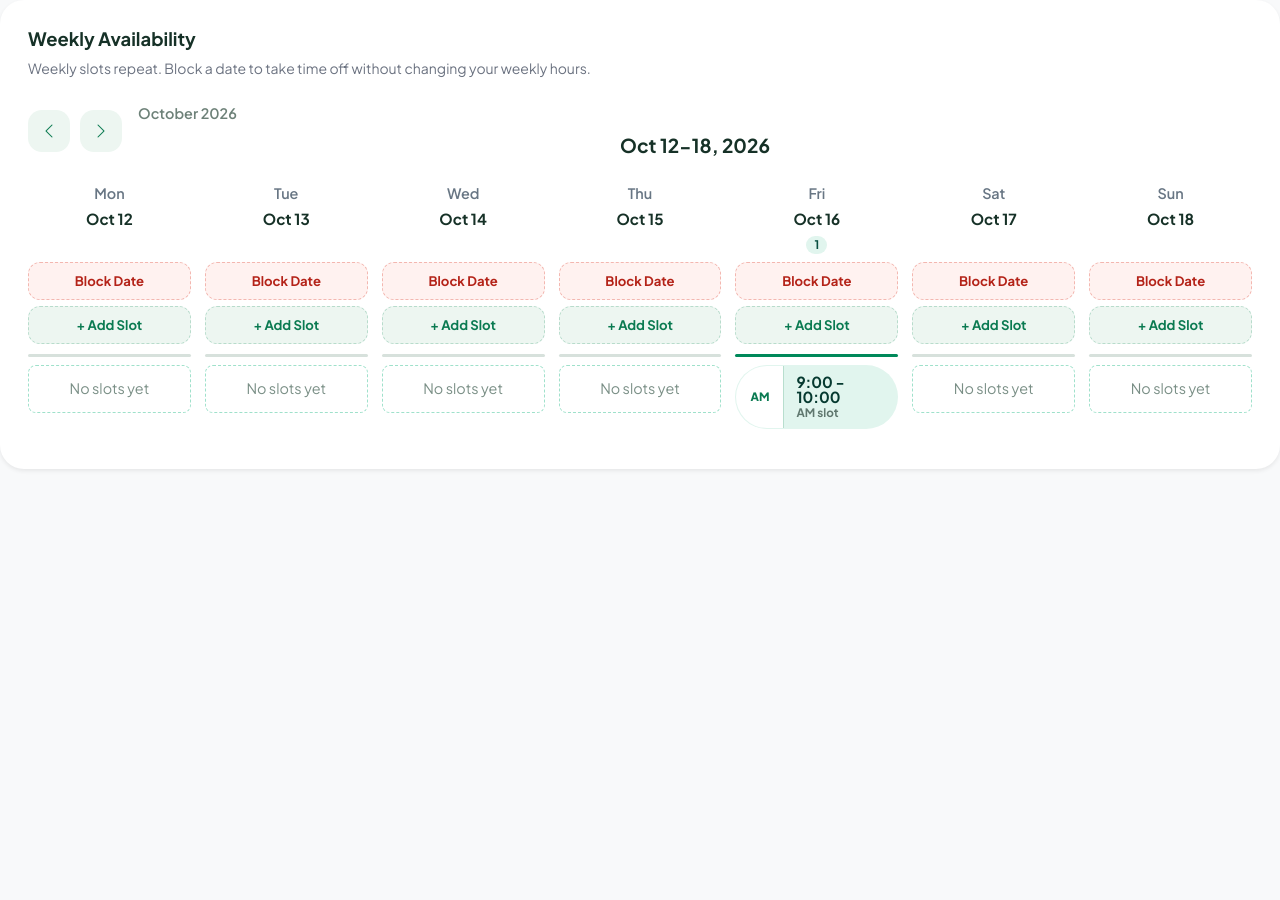
Recurring availability deletion › does not delete on selection or cancel, explains recurrence, and restores focus
Click the button with class "slot-pill": (817,397) [735,365,898,429]
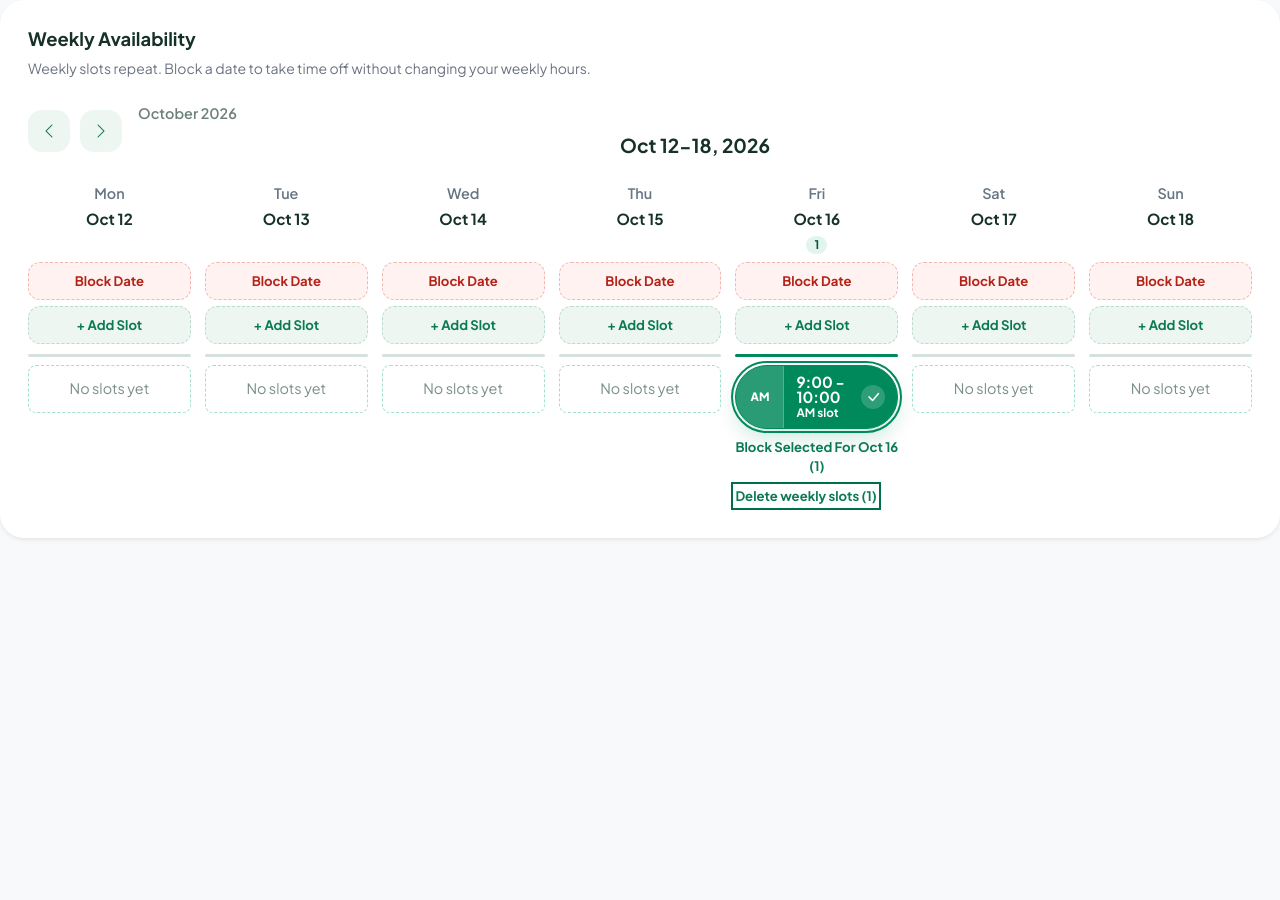
Click the button "Delete weekly slots (1)": (806,496) [735,486,877,506]
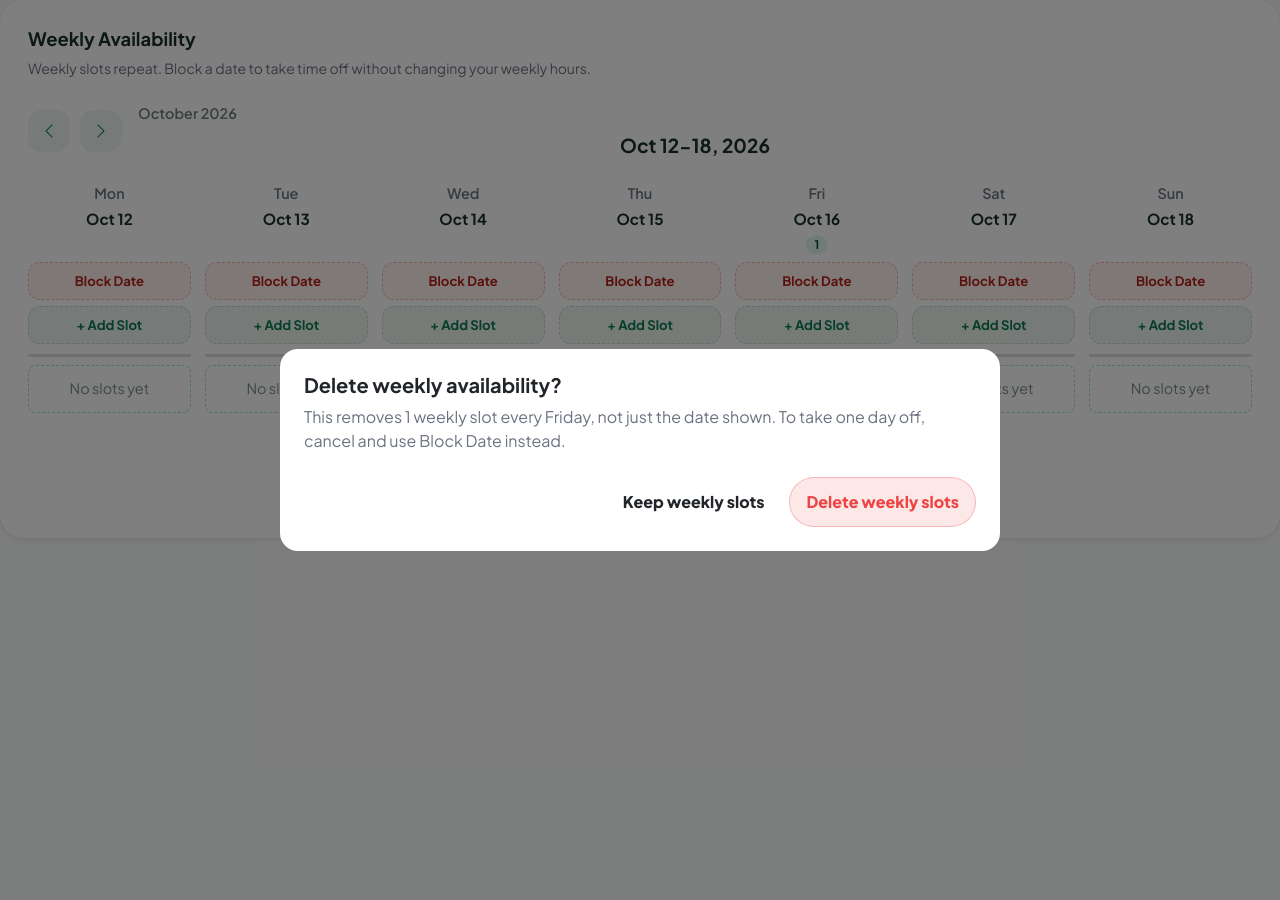
Check: the text with id "delete-weekly-description" shows "every Friday", box [304,406,925,452]
Click the button "Keep weekly slots": (694,502) [606,478,781,526]
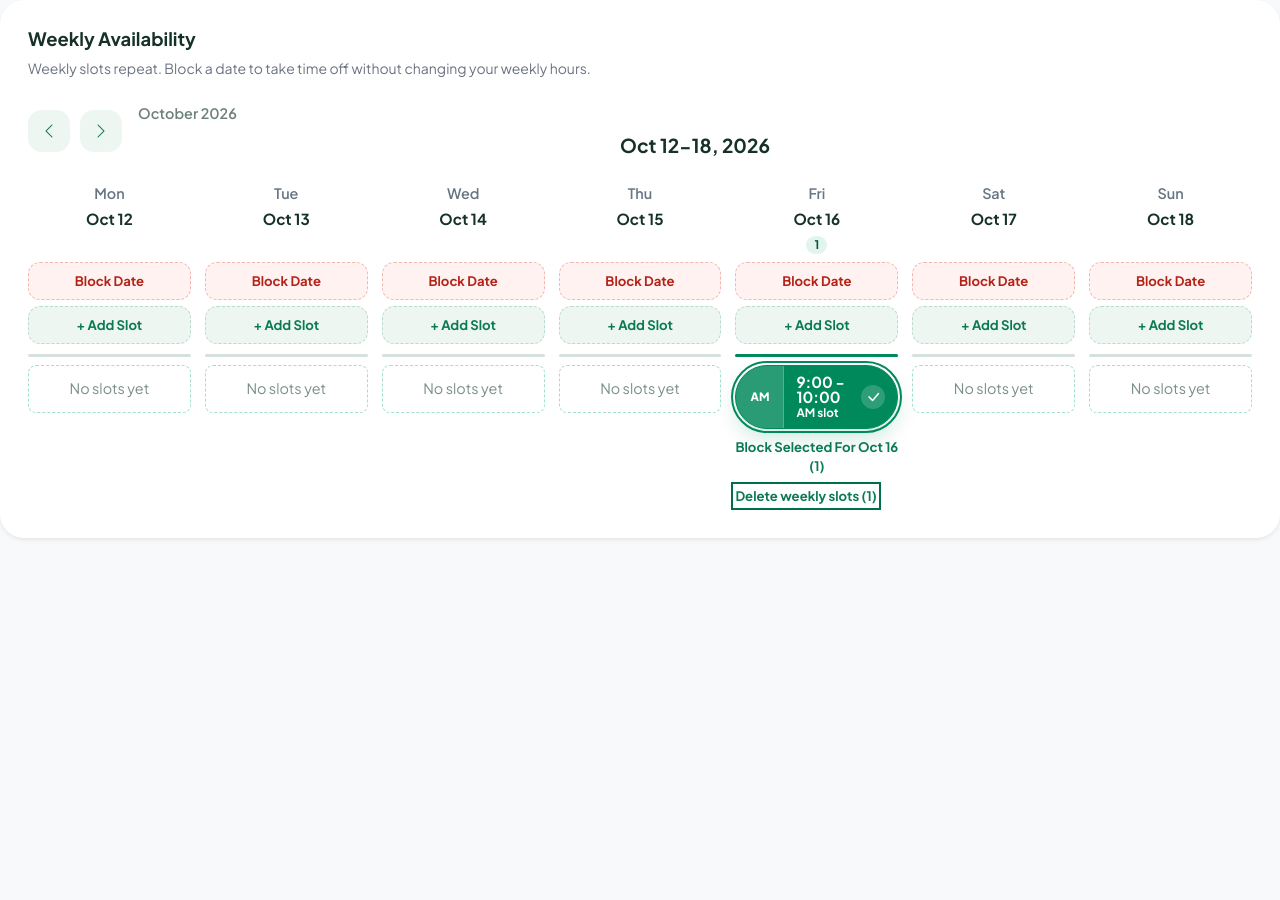
Check: the heading with id "delete-weekly-title" is gone
